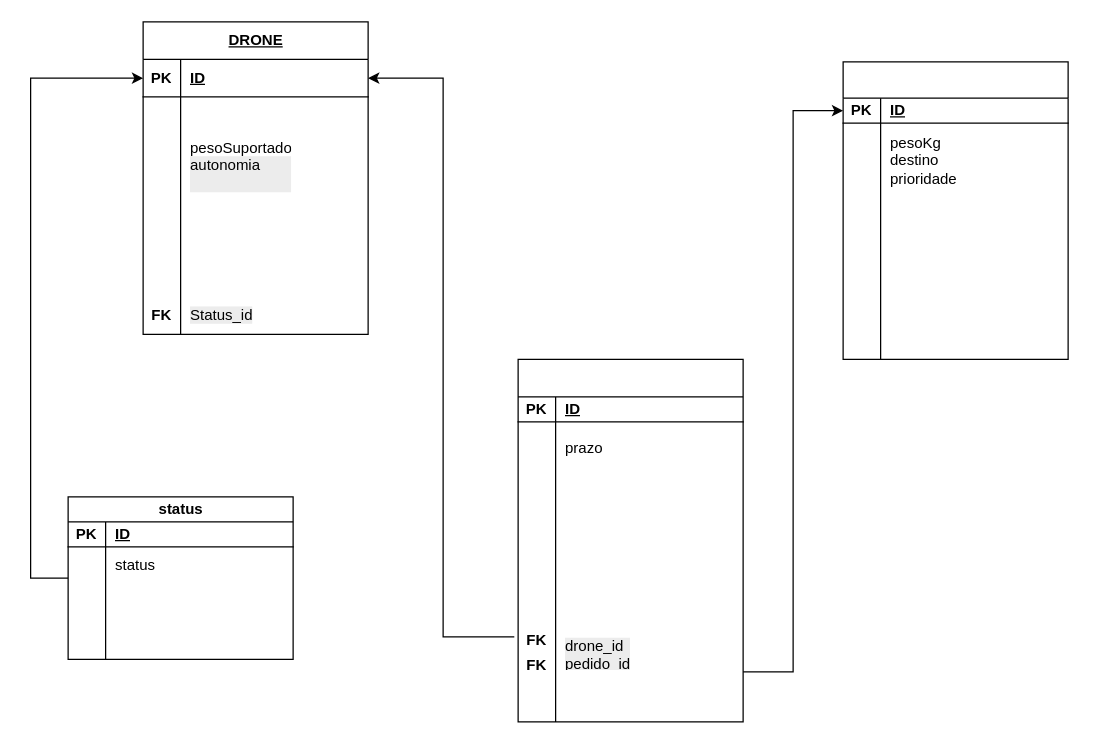
Image size: 1100x744. Some labels were removed from this diagram. Here are the shapes that lost their labels. From the top down, the box of each, then its label:
(842, 61, 1068, 359): PEDIDO
(517, 358, 743, 722): ENTREGA
